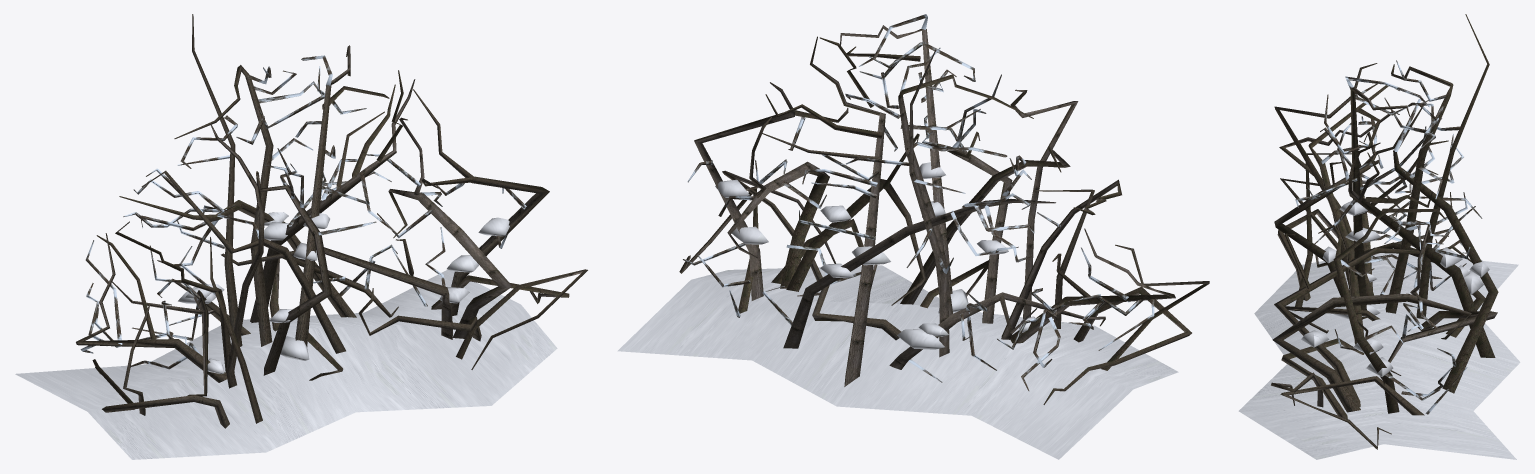
Rendered from hd_thorn_heap_far.glb.
3 renders of one model, left to right at view 1: azimuth 30°, elevation 25°; view 2: azimuth 150°, elevation 25°; view 3: azimuth 270°, elevation 25°, orthographic. The views are drawn at different scales.
Parts seen in each view (by area): view 1: hd_thorn_heap_far; view 2: hd_thorn_heap_far; view 3: hd_thorn_heap_far.
Boxes of the visible parts, x1,y1,x2,y2 form: hd_thorn_heap_far: (15,14,587,459); hd_thorn_heap_far: (617,14,1209,459); hd_thorn_heap_far: (1238,14,1520,459).
Bounding box in the file's own units: 4.41 × 3.05 × 2.44.
Materials: 1 (1 with a texture image).
